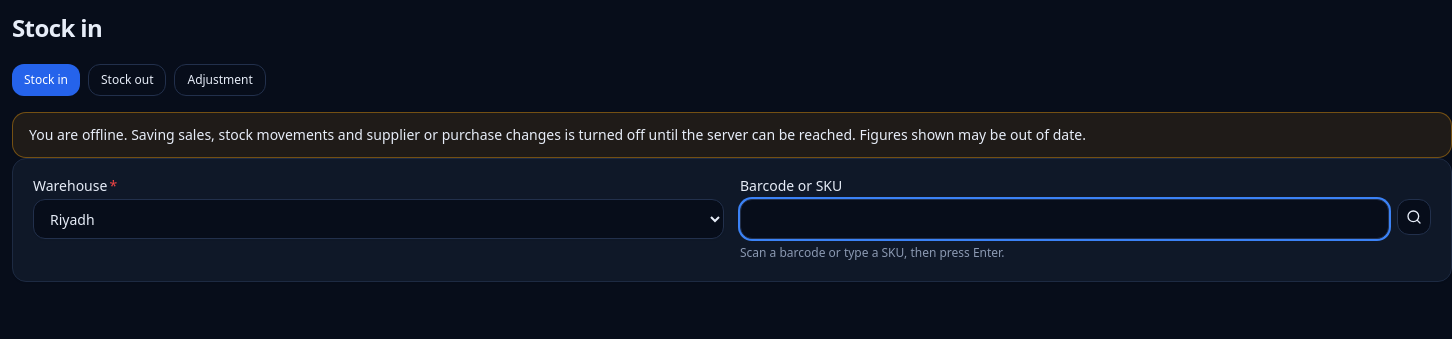
it: stock movement form (server-first) › while offline, product search says it needs a connection and recording is disabled
Type "2000000100104" into the field labelled "Barcode or SKU" at (1065, 219), box x1=740 y1=199 x2=1389 y2=239
Then press Enter
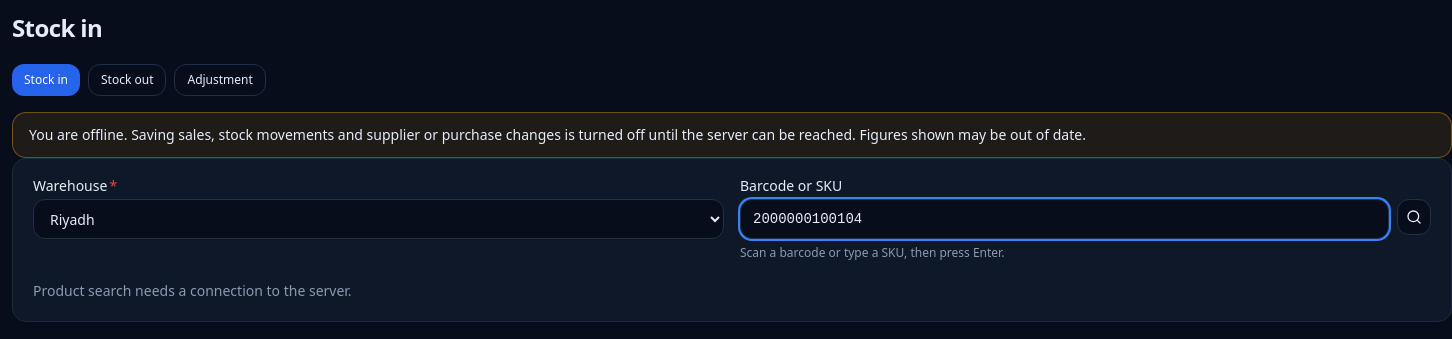
Now the text "Product search needs a connection to the server." is shown, box x1=33 y1=281 x2=352 y2=300
